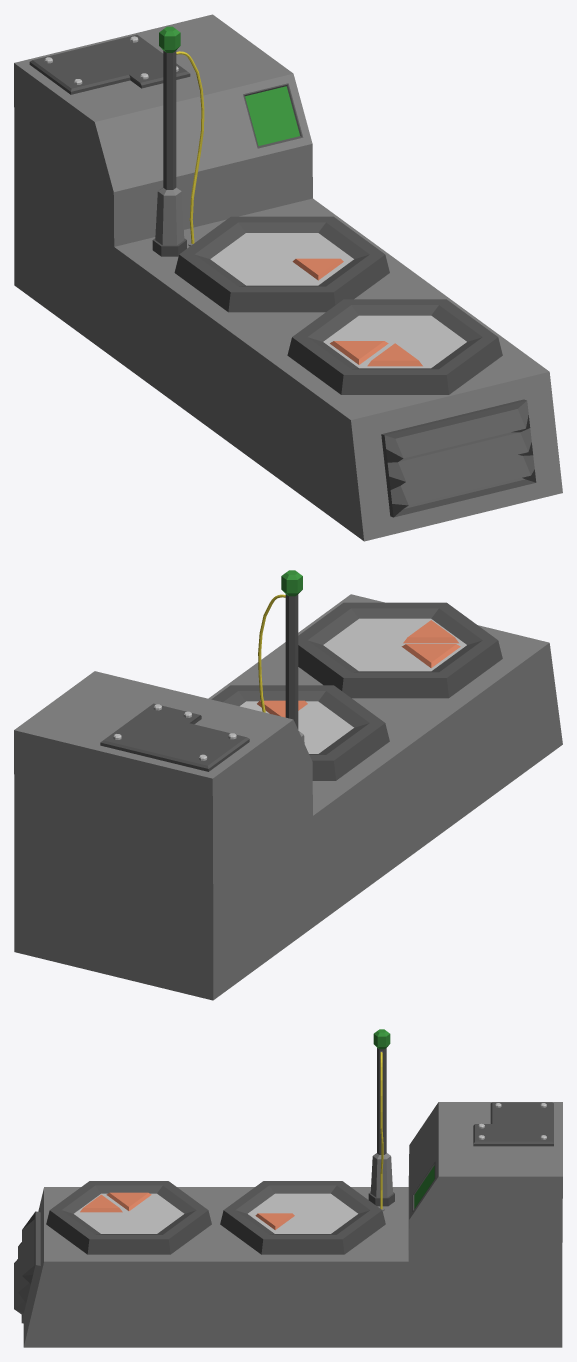
The model's file is navConsole.glb.
3 views of the same model, one above another, from view 1: azimuth 30°, elevation 25°; view 2: azimuth 150°, elevation 25°; view 3: azimuth 270°, elevation 25° (orthographic). The views are drawn at different scales.
Parts seen in each view (by area): view 1: Nav Console; view 2: Nav Console; view 3: Nav Console.
Part boxes in pixels (<box>): Nav Console: <box>14,14,562,541</box>; Nav Console: <box>14,570,562,1000</box>; Nav Console: <box>14,1029,562,1347</box>.
Bounding box in the file's own units: 0.6098 × 0.9758 × 1.89.
